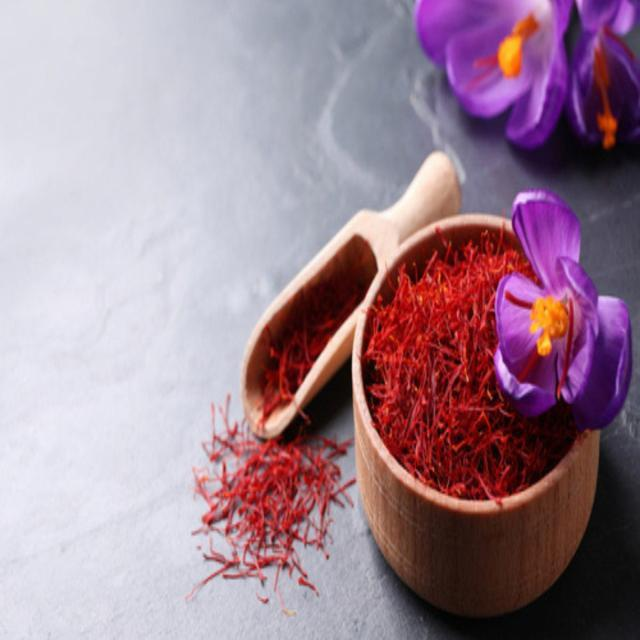Flower: (409, 0, 640, 177), (489, 190, 634, 428)
stigma: (471, 3, 536, 98), (587, 31, 618, 149)
